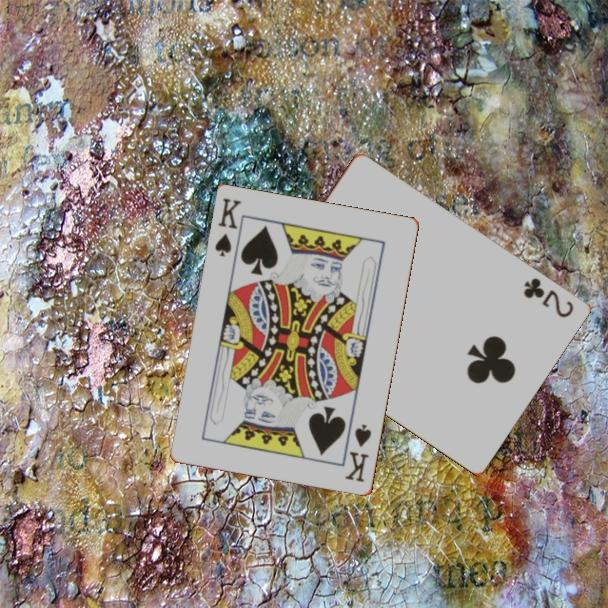c02: (519, 274, 576, 321)
s13: (212, 195, 245, 260), (342, 421, 375, 485)
